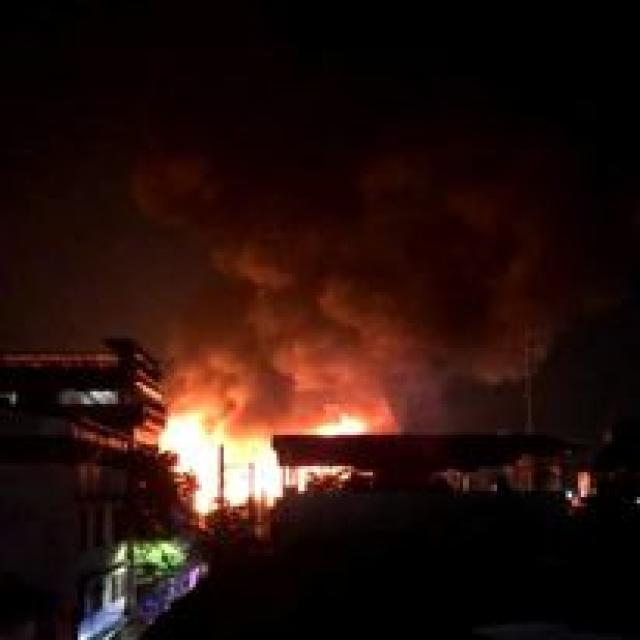Fire: (174, 412, 280, 504), (315, 404, 370, 429)
Smoke: (173, 155, 528, 413)
